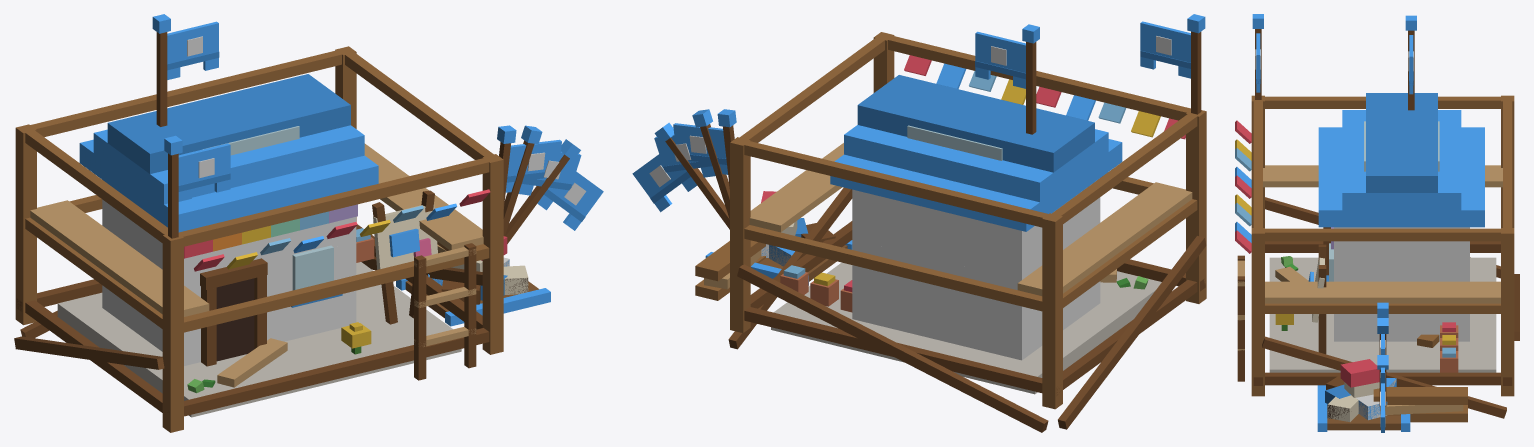
Rendered from butterfly-research.glb.
3 views of the same model, side by side, from view 1: azimuth 30°, elevation 25°; view 2: azimuth 150°, elevation 25°; view 3: azimuth 270°, elevation 25° (orthographic). The views are drawn at different scales.
Parts seen in each view (by area): view 1: scaffold-mesh, built-mesh, dismantle-75-mesh, dismantle-50-mesh, scaffold-banner, banner, dismantle-25-banner, dismantle-25-mesh, dismantle-75-banner, flag-pole, scaffold-flag-pole, dismantle-25-flag-pole (+3 smaller); view 2: scaffold-mesh, built-mesh, dismantle-75-mesh, banner, scaffold-banner, dismantle-25-banner, dismantle-75-banner, dismantle-50-banner, flag-pole, dismantle-50-mesh, dismantle-25-flag-pole, scaffold-flag-pole (+3 smaller); view 3: scaffold-mesh, built-mesh, dismantle-75-mesh, dismantle-50-mesh, dismantle-25-mesh, flag-pole, scaffold-flag-pole, scaffold-banner, banner, dismantle-25-flag-pole.
Part boxes in pixels (bbox=[...]): scaffold-mesh: bbox=[14, 46, 503, 432]; built-mesh: bbox=[79, 74, 461, 417]; dismantle-75-mesh: bbox=[58, 190, 550, 399]; dismantle-50-mesh: bbox=[191, 235, 550, 392]; scaffold-banner: bbox=[178, 143, 230, 201]; banner: bbox=[167, 21, 219, 79]; dismantle-25-banner: bbox=[537, 166, 603, 230]; dismantle-25-mesh: bbox=[216, 236, 550, 387]; dismantle-75-banner: bbox=[505, 139, 561, 192]; flag-pole: bbox=[152, 14, 170, 126]; scaffold-flag-pole: bbox=[164, 135, 182, 238]; dismantle-25-flag-pole: bbox=[505, 139, 580, 243]; scaffold-mesh: bbox=[695, 32, 1206, 432]; built-mesh: bbox=[771, 75, 1139, 394]; dismantle-75-mesh: bbox=[705, 202, 1161, 376]; banner: bbox=[975, 31, 1025, 88]; scaffold-banner: bbox=[1140, 21, 1190, 78]; dismantle-25-banner: bbox=[632, 154, 696, 212]; dismantle-75-banner: bbox=[673, 123, 728, 174]; dismantle-50-banner: bbox=[654, 132, 715, 182]; flag-pole: bbox=[1022, 24, 1039, 134]; dismantle-50-mesh: bbox=[706, 223, 1148, 293]; dismantle-25-flag-pole: bbox=[654, 122, 729, 229]; scaffold-flag-pole: bbox=[1187, 14, 1205, 114]; scaffold-mesh: bbox=[1235, 95, 1519, 422]; built-mesh: bbox=[1289, 93, 1484, 354]; dismantle-75-mesh: bbox=[1269, 227, 1496, 431]; dismantle-50-mesh: bbox=[1275, 258, 1469, 431]; dismantle-25-mesh: bbox=[1275, 270, 1469, 431]; flag-pole: bbox=[1405, 15, 1416, 110]; scaffold-flag-pole: bbox=[1252, 14, 1263, 99]; scaffold-banner: bbox=[1255, 33, 1260, 92]; banner: bbox=[1408, 35, 1413, 94]; dismantle-25-flag-pole: bbox=[1377, 355, 1388, 406].
Bounding box in the file's own units: 2.67 × 1.73 × 1.51.
